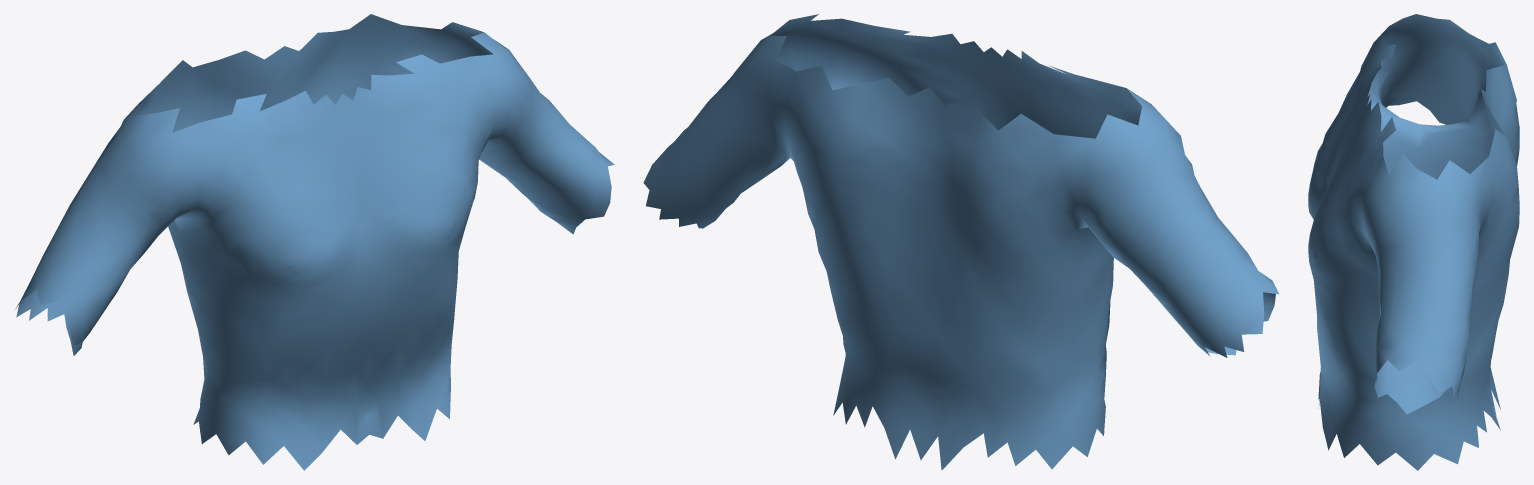
Rendered from tshirt-blender-v1.glb.
3 renders of one model, left to right at view 1: azimuth 30°, elevation 25°; view 2: azimuth 150°, elevation 25°; view 3: azimuth 270°, elevation 25°, orthographic. The views are drawn at different scales.
Visible parts, largest first — view 1: demo_tshirt; view 2: demo_tshirt; view 3: demo_tshirt.
Boxes of the visible parts, x1,y1,x2,y2 form: demo_tshirt: [15, 14, 614, 470]; demo_tshirt: [643, 14, 1278, 470]; demo_tshirt: [1308, 14, 1519, 470].
Bounding box in the file's own units: 0.7408 × 0.4298 × 0.2446.
